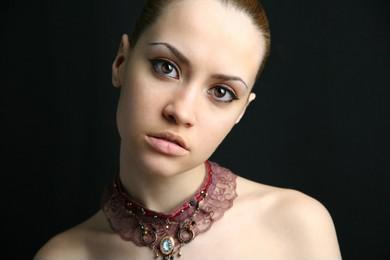face: (109, 11, 257, 177)
